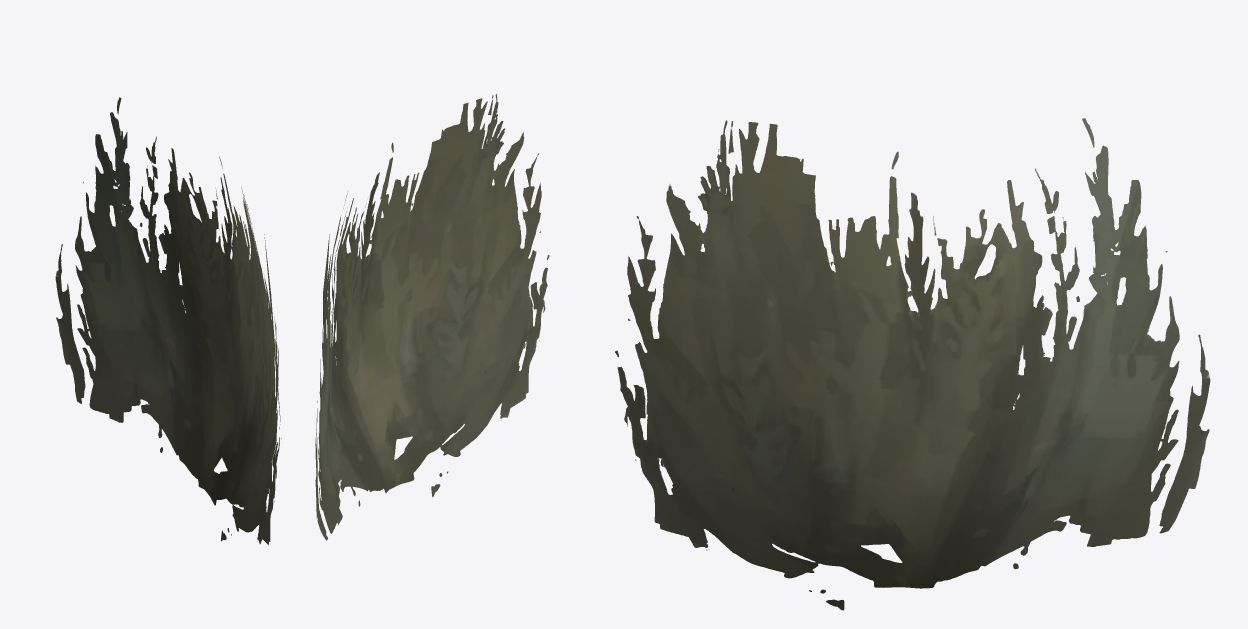
The picture shows the model from 3 angles, left to right: view 1: azimuth 30°, elevation 25°; view 2: azimuth 150°, elevation 25°; view 3: azimuth 270°, elevation 25°; orthographic projection. The views are drawn at different scales.
Visible parts, largest first — view 1: body0_model0_lod0_mesh0; view 2: body0_model0_lod0_mesh0; view 3: body0_model0_lod0_mesh0.
Part boxes in pixels (x1,y1,x2,y2): body0_model0_lod0_mesh0: (55, 97, 281, 544); body0_model0_lod0_mesh0: (315, 94, 549, 540); body0_model0_lod0_mesh0: (615, 118, 1210, 610).
Size of the model in its own units: 23.91 by 92.25 by 90.
1 material, 1 textured.
